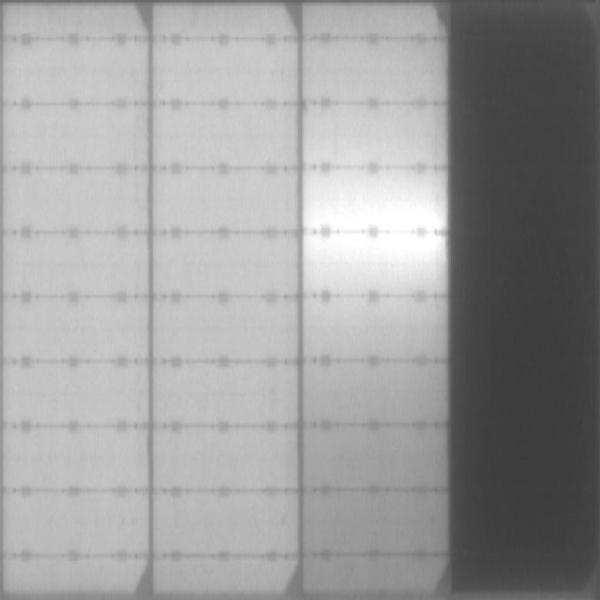hot_spot: (316, 204, 446, 225), (332, 236, 438, 255)
no_electricity: (453, 1, 594, 589)
